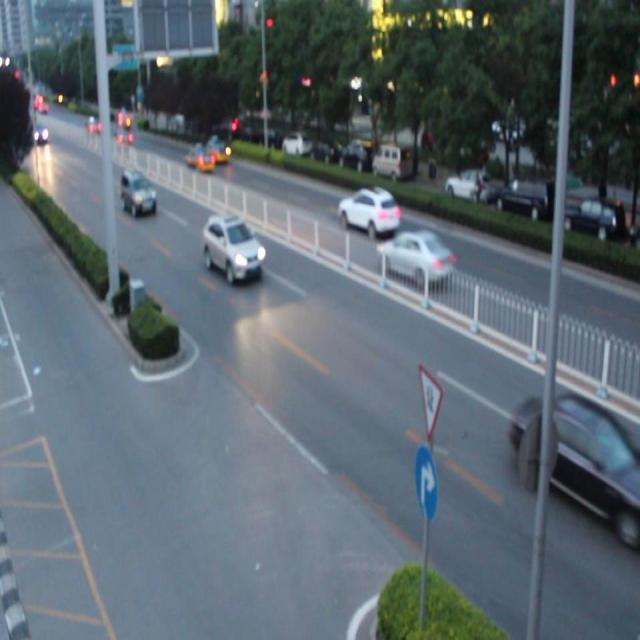car: (511, 394, 640, 534), (375, 229, 450, 284), (203, 216, 263, 277), (336, 188, 398, 232), (121, 171, 156, 213), (183, 142, 215, 173), (200, 137, 231, 166)
